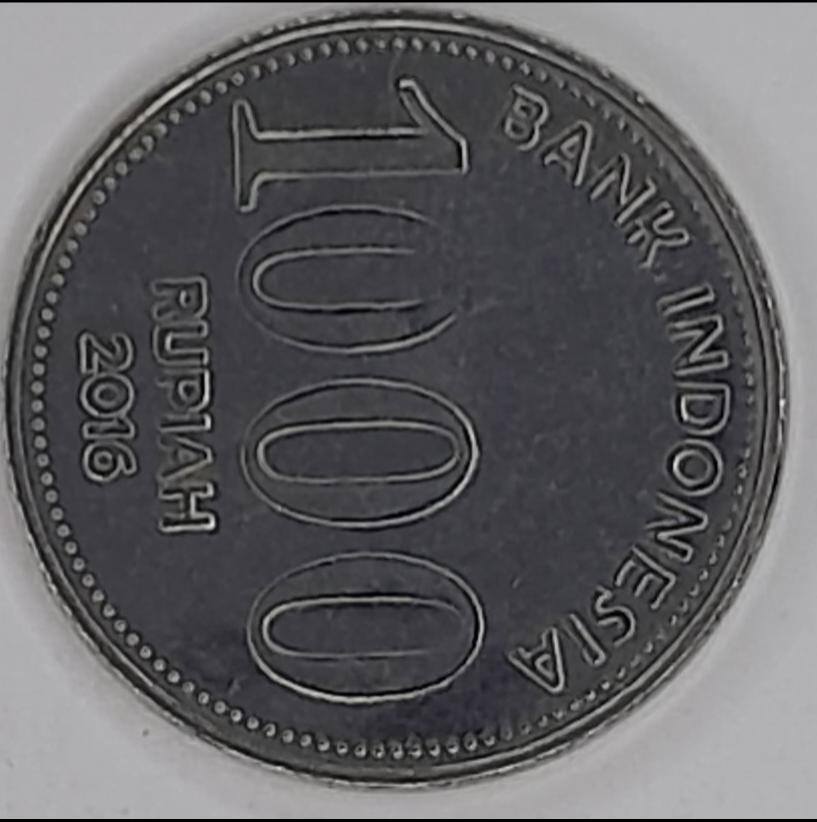coin_1000_e2016: (14, 16, 806, 822)
